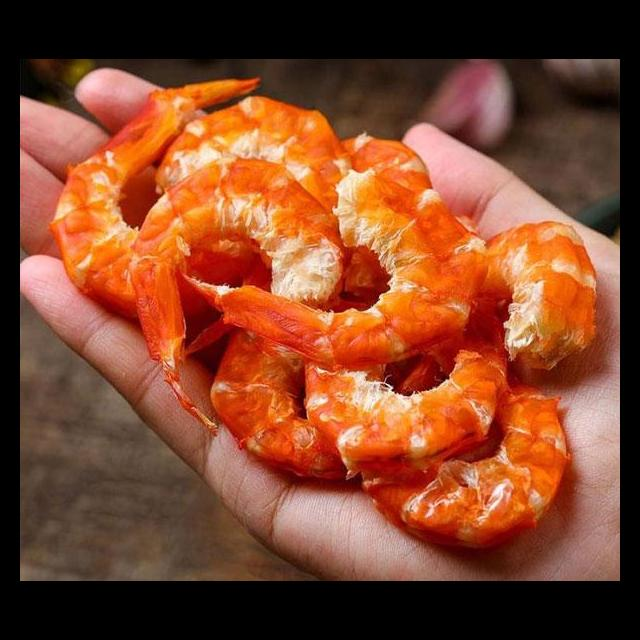tom: (174, 163, 487, 374), (123, 151, 347, 442), (48, 74, 266, 327), (388, 216, 603, 418), (351, 362, 576, 552), (297, 287, 509, 482), (207, 289, 413, 483), (148, 86, 362, 269), (323, 126, 441, 308)
